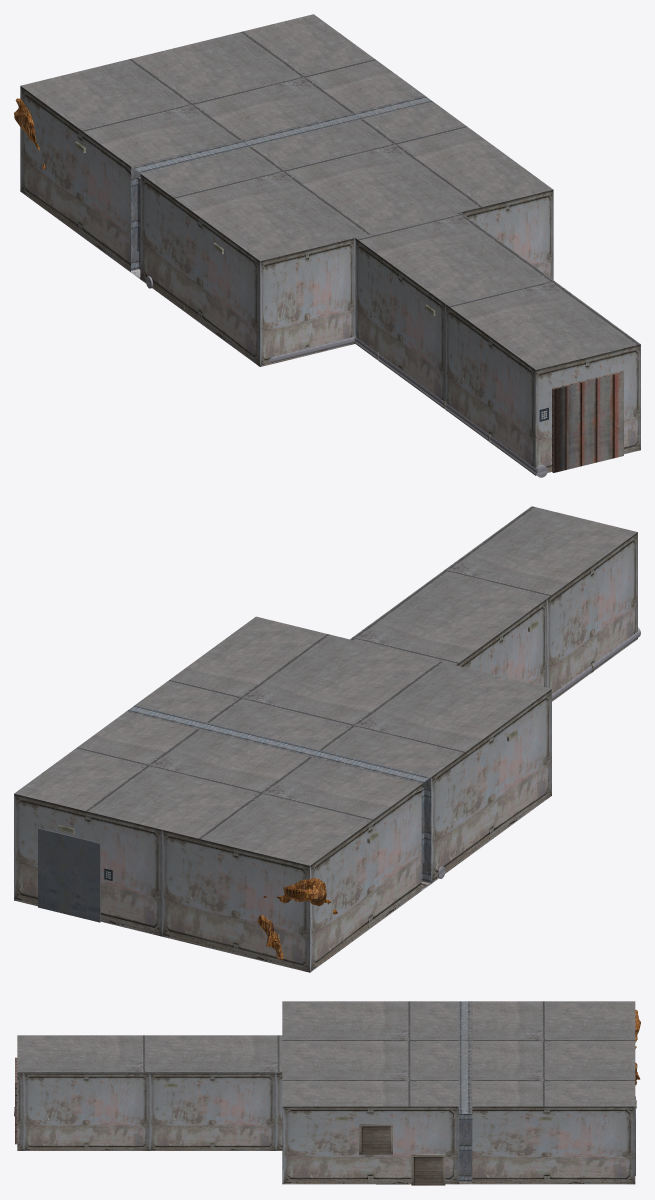
File: LEVIL 2.fbx
The picture shows the model from 3 angles, top to bottom: view 1: azimuth 30°, elevation 25°; view 2: azimuth 150°, elevation 25°; view 3: azimuth 270°, elevation 25°; orthographic projection. The views are drawn at different scales.
Parts seen in each view (by area): view 1: Plane.001, Plane, Cube, Cylinder; view 2: Plane.001, Plane, Cube.013, Sphere, Cube.015, Cylinder; view 3: Plane, Plane.001, Cube.002, Cube.006.
Boxes of the visible parts, x1,y1,x2,y2 form: Plane.001: [20, 14, 640, 369]; Plane: [20, 86, 640, 475]; Cube: [552, 371, 623, 472]; Cylinder: [145, 276, 547, 477]; Plane.001: [14, 506, 637, 865]; Plane: [14, 532, 637, 972]; Cube.013: [42, 833, 95, 921]; Sphere: [257, 875, 337, 960]; Cube.015: [38, 828, 100, 922]; Cylinder: [437, 627, 640, 878]; Plane: [17, 1001, 635, 1184]; Plane.001: [17, 1001, 635, 1106]; Cube.002: [411, 1154, 445, 1185]; Cube.006: [359, 1124, 392, 1155].
Size of the model in its own units: 579 by 198 by 1416.
Materials: 14 (14 with a texture image).
